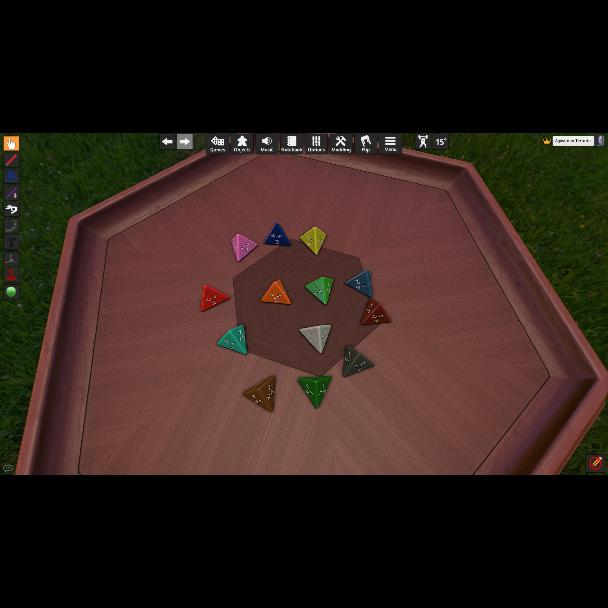d4: (242, 376, 276, 412), (297, 376, 331, 408), (342, 344, 373, 378), (298, 324, 330, 354), (216, 325, 246, 355), (304, 276, 334, 306), (360, 298, 390, 326), (261, 280, 291, 306), (300, 227, 326, 255), (231, 234, 257, 262), (346, 271, 372, 299), (200, 285, 228, 311), (264, 222, 290, 248)
